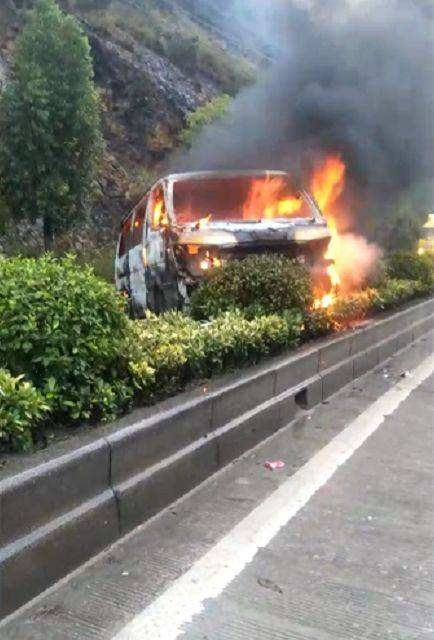fire: (159, 154, 378, 319)
